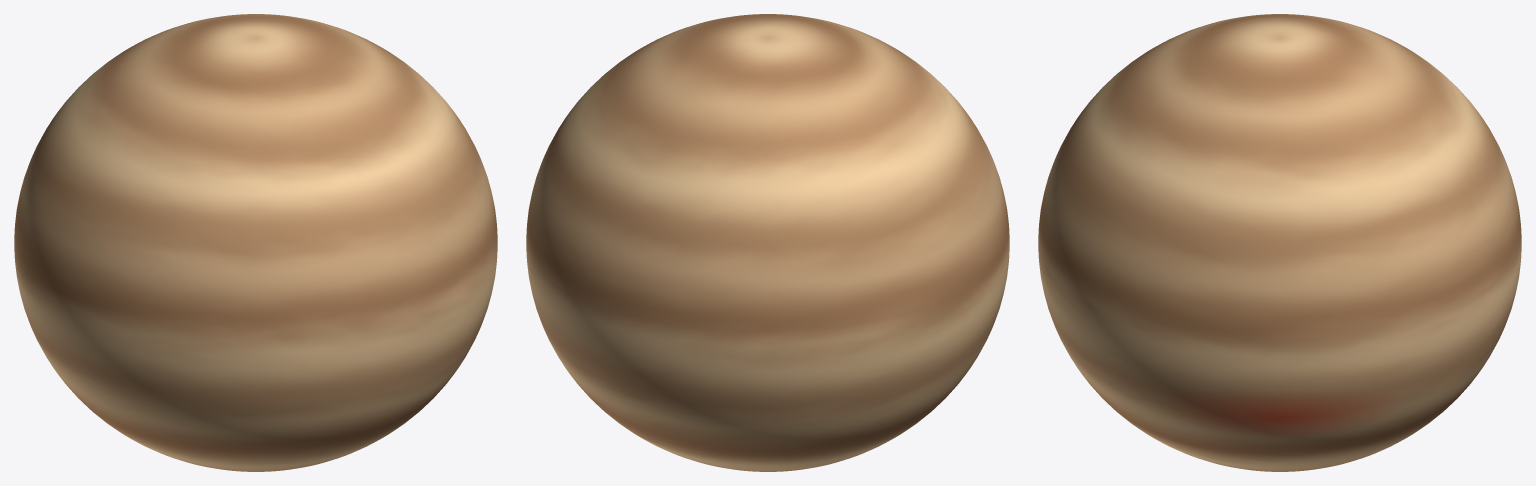
File: jupiter.glb
3 views of the same model, side by side, from view 1: azimuth 30°, elevation 25°; view 2: azimuth 150°, elevation 25°; view 3: azimuth 270°, elevation 25° (orthographic).
Visible parts, largest first — view 1: jupiter; view 2: jupiter; view 3: jupiter.
Part boxes in pixels (bbox=[...]): jupiter: bbox=[14, 14, 497, 471]; jupiter: bbox=[526, 14, 1009, 471]; jupiter: bbox=[1038, 14, 1521, 471].
Size of the model in its own units: 2 by 1.87 by 2.
1 material, 1 textured.
